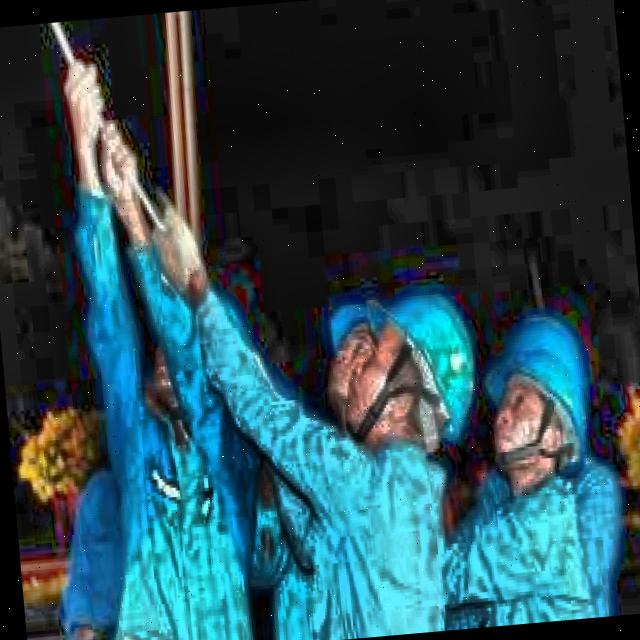helmet: (343, 292, 479, 468), (483, 306, 602, 500), (316, 298, 404, 432)
